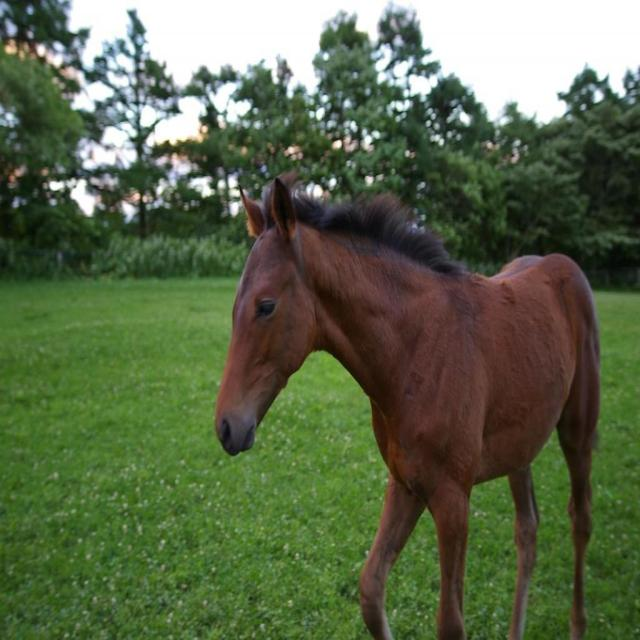Horse: (216, 168, 602, 640)
